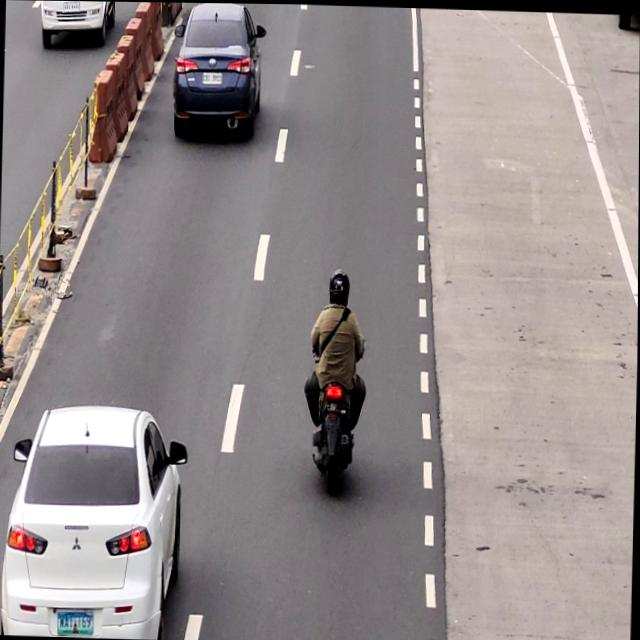Car: (2, 408, 183, 640), (173, 2, 261, 141)
License-Plate: (55, 610, 94, 638), (202, 70, 223, 83)
Motorcycle: (303, 267, 368, 489)
